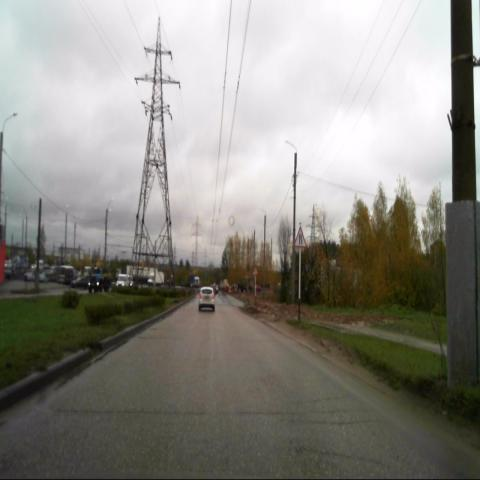1_20_2: (294, 226, 307, 250)
